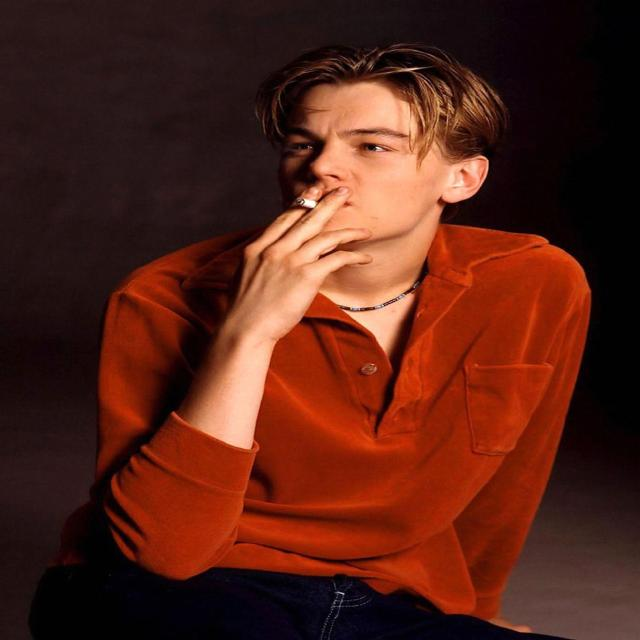cigarette: (280, 189, 346, 217)
